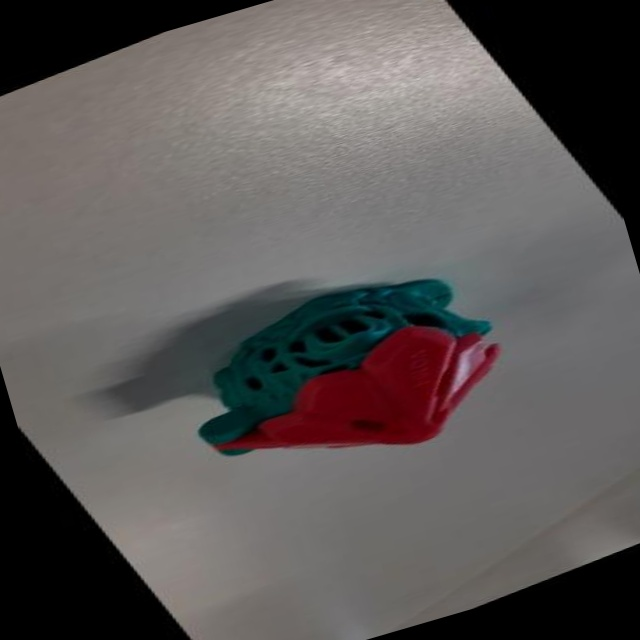House: (120, 214, 585, 541)
